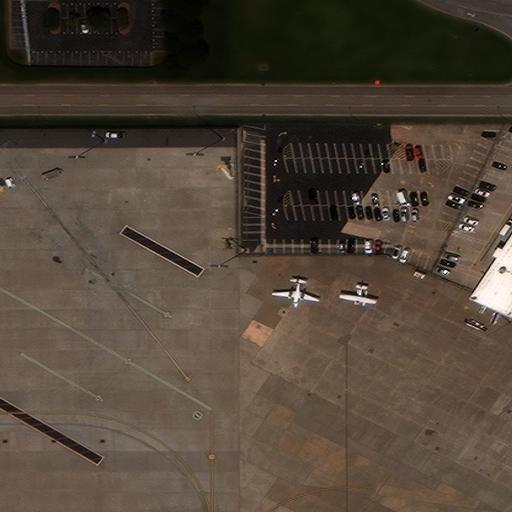Medium Civil Transport: (271, 276, 319, 307)
Small Civil Transport: (339, 282, 376, 306)
